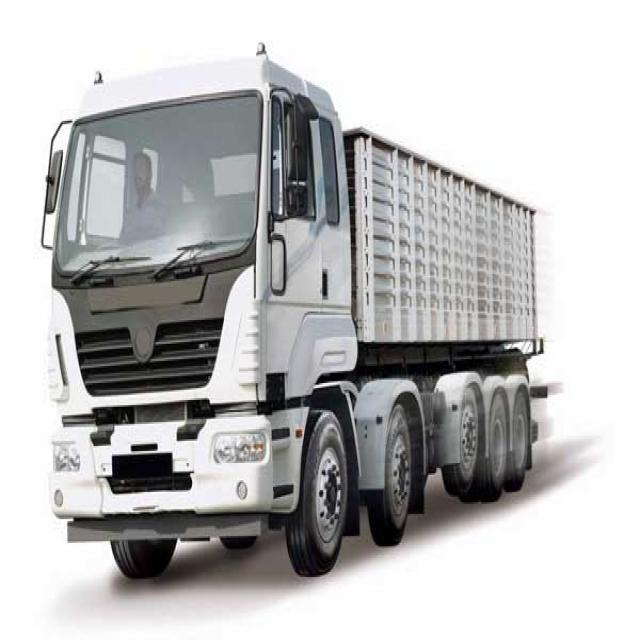Truck: (43, 67, 538, 584)
